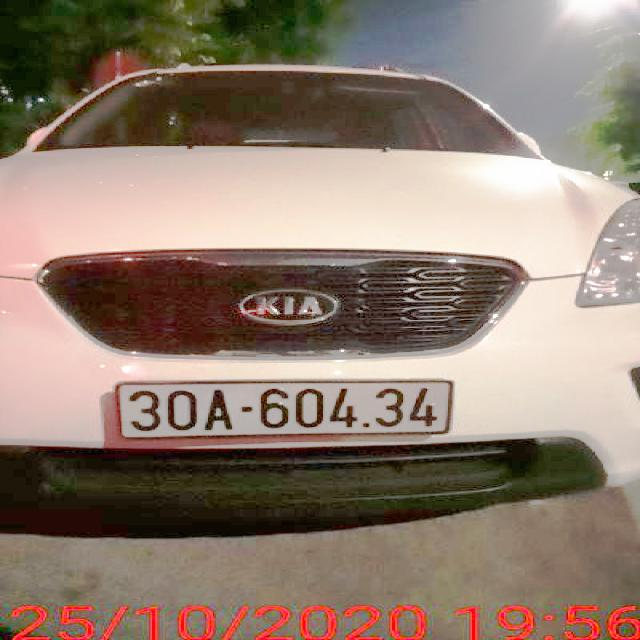license_plate: (118, 382, 452, 440)
